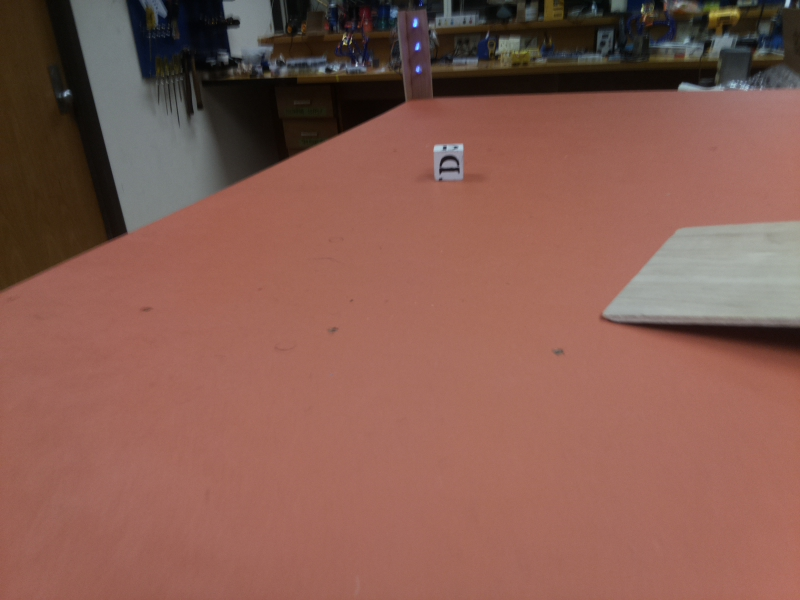blockD: (430, 143, 468, 183)
corner: (394, 11, 439, 104)
slope: (601, 228, 800, 351)
